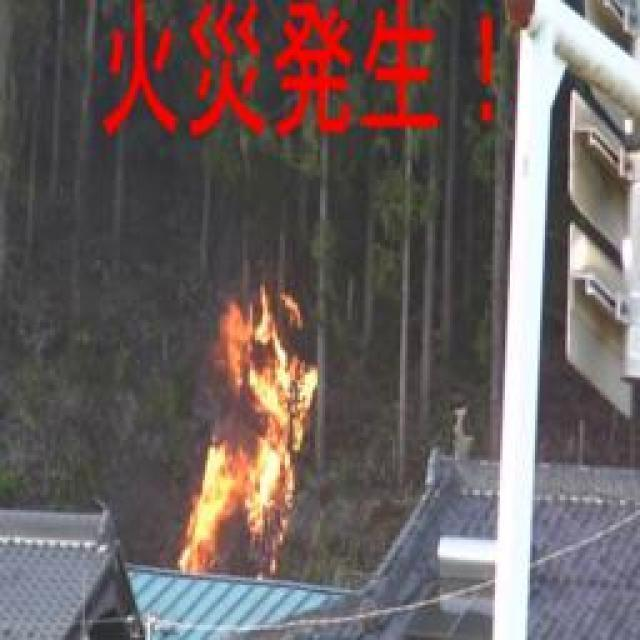fire: (162, 263, 327, 580)
